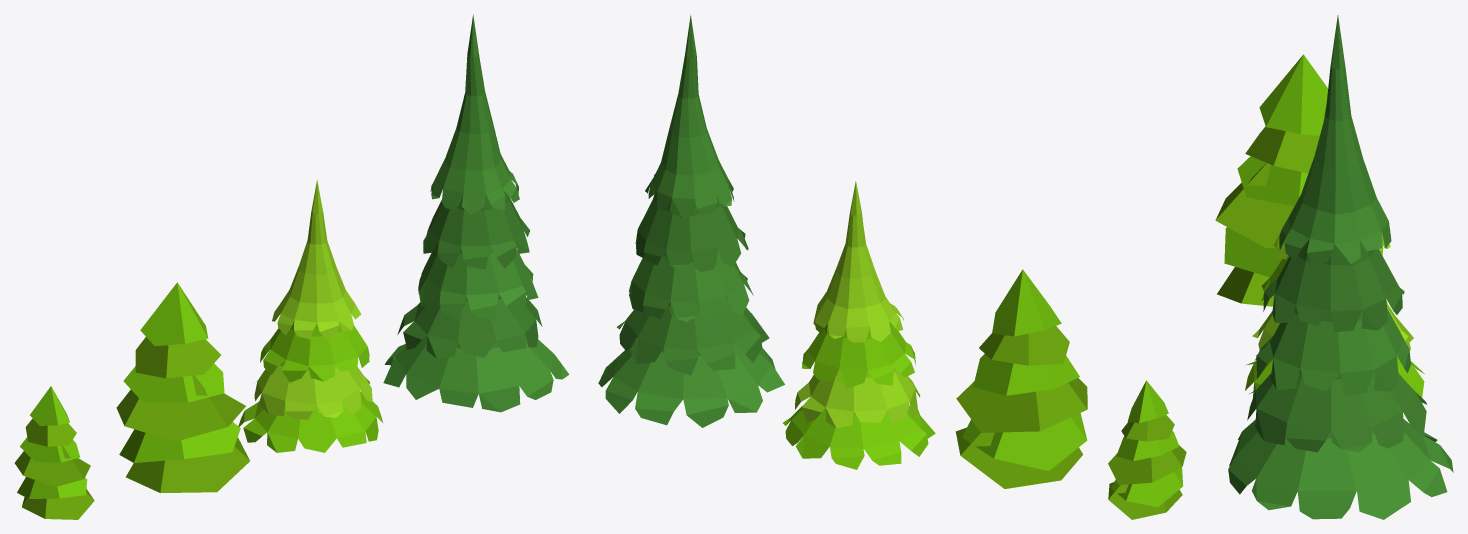
The model's file is neutral.glb.
3 views of the same model, side by side, from view 1: azimuth 30°, elevation 25°; view 2: azimuth 150°, elevation 25°; view 3: azimuth 270°, elevation 25° (orthographic). The views are drawn at different scales.
Parts seen in each view (by area): view 1: ziran.822, ziran.821, ziran.823, ziran.824; view 2: ziran.822, ziran.821, ziran.823, ziran.824; view 3: ziran.822, ziran.823, ziran.821.
Part boxes in pixels (bbox=[...]): ziran.822: bbox=[383, 14, 569, 412]; ziran.821: bbox=[238, 180, 383, 452]; ziran.823: bbox=[116, 282, 249, 493]; ziran.824: bbox=[14, 386, 94, 519]; ziran.822: bbox=[598, 14, 784, 427]; ziran.821: bbox=[783, 181, 935, 469]; ziran.823: bbox=[955, 269, 1087, 488]; ziran.824: bbox=[1108, 380, 1186, 519]; ziran.822: bbox=[1228, 15, 1453, 519]; ziran.823: bbox=[1215, 54, 1327, 306]; ziran.821: bbox=[1245, 104, 1424, 397].
Bounding box in the file's own units: 8.82 × 5.93 × 2.66.
Materials: 1 (1 with a texture image).
